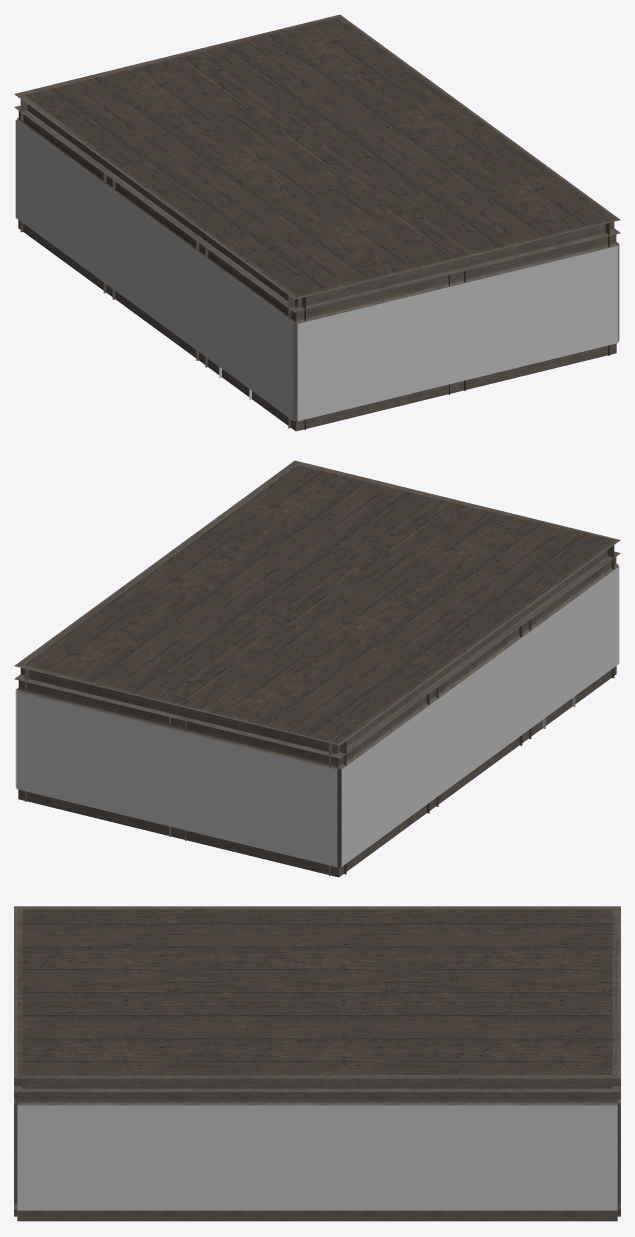
Rendered from house_interior1.fbx.
3 renders of one model, top to bottom at view 1: azimuth 30°, elevation 25°; view 2: azimuth 150°, elevation 25°; view 3: azimuth 270°, elevation 25°, orthographic. The views are drawn at different scales.
Visible parts, largest first — view 1: house_interior1; view 2: house_interior1; view 3: house_interior1.
Boxes of the visible parts, x1,y1,x2,y2 form: house_interior1: [14, 14, 620, 431]; house_interior1: [14, 460, 620, 877]; house_interior1: [14, 906, 620, 1221].
Bounding box in the file's own units: 1017 × 399 × 1517.
